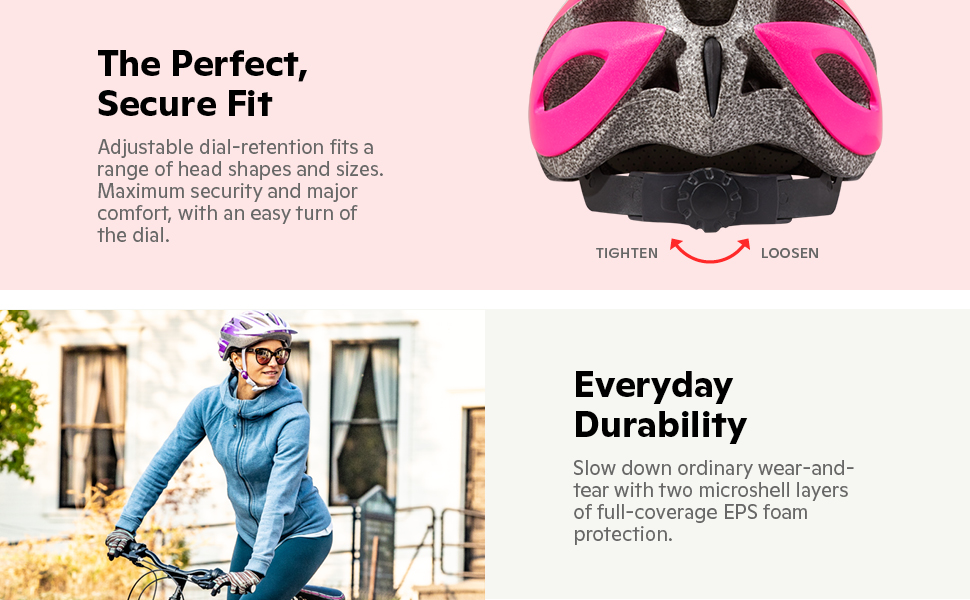helmet: (218, 310, 299, 387)
